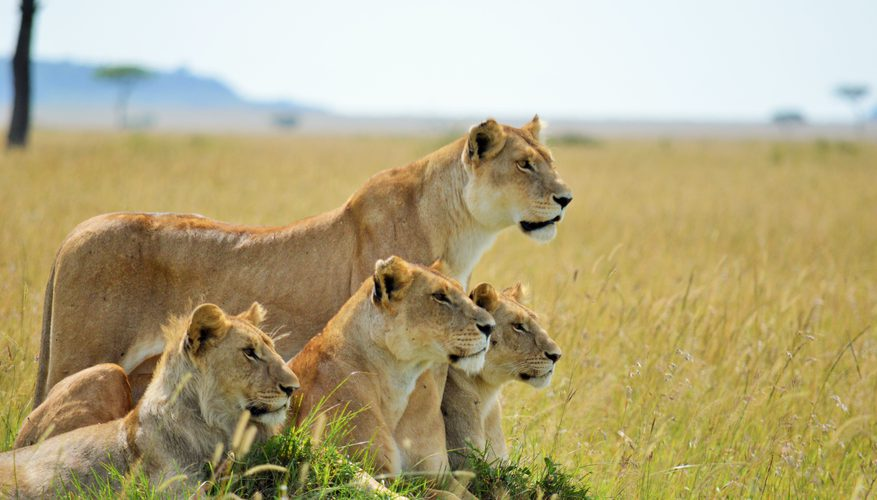lion: (28, 110, 579, 487), (1, 301, 306, 496), (249, 257, 498, 477), (340, 280, 562, 477)
